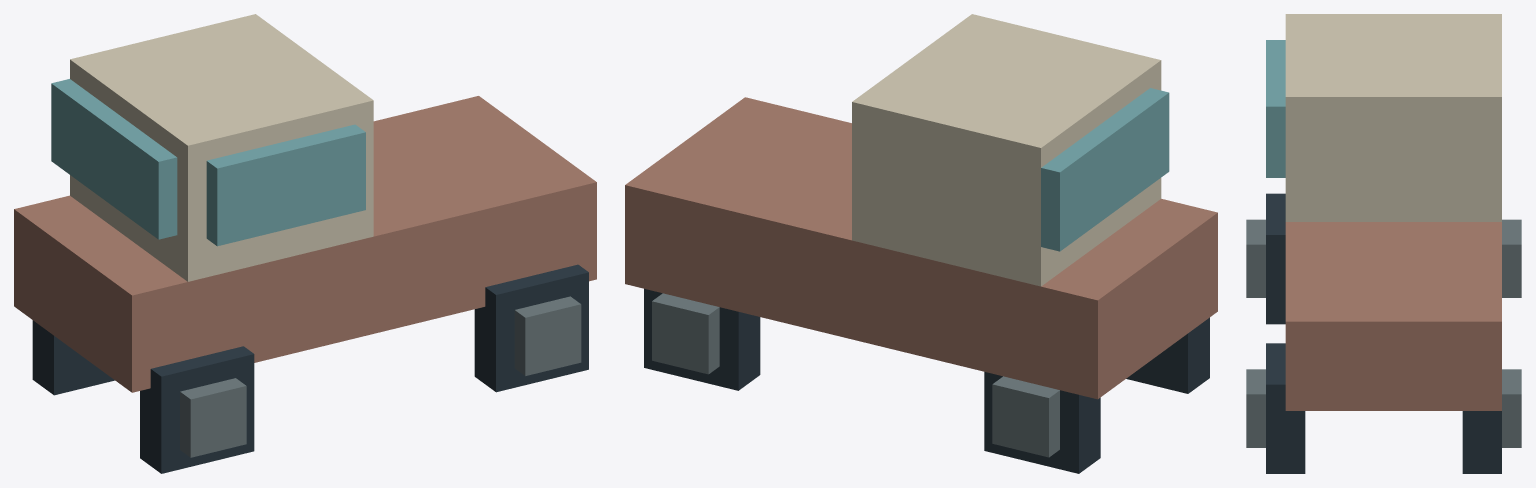
Rendered from automotive-01.glb.
3 renders of one model, left to right at view 1: azimuth 30°, elevation 25°; view 2: azimuth 150°, elevation 25°; view 3: azimuth 270°, elevation 25°, orthographic. The views are drawn at different scales.
Visible parts, largest first — view 1: Electric car; view 2: Electric car; view 3: Electric car.
Part boxes in pixels (left/top/right/bottom): Electric car: left=14, top=14, right=596, bottom=473; Electric car: left=625, top=14, right=1217, bottom=473; Electric car: left=1246, top=14, right=1521, bottom=473.
Size of the model in its own units: 2 by 1.28 by 1.12.
